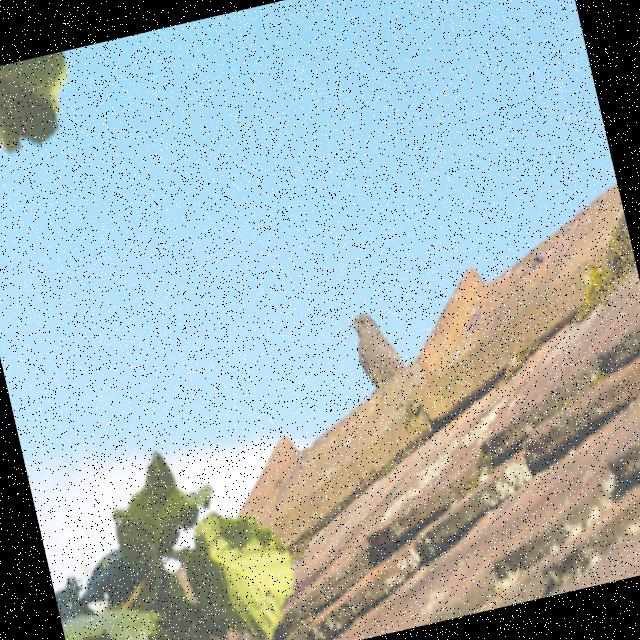bird: (344, 304, 410, 398)
